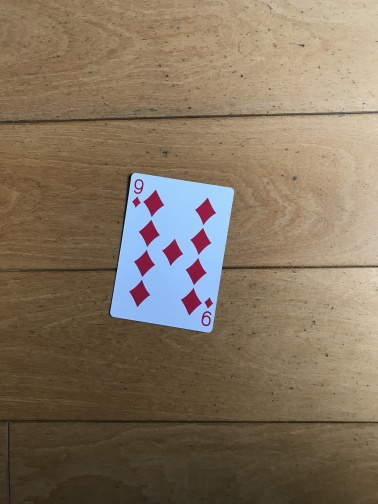nine: (109, 172, 236, 334)
